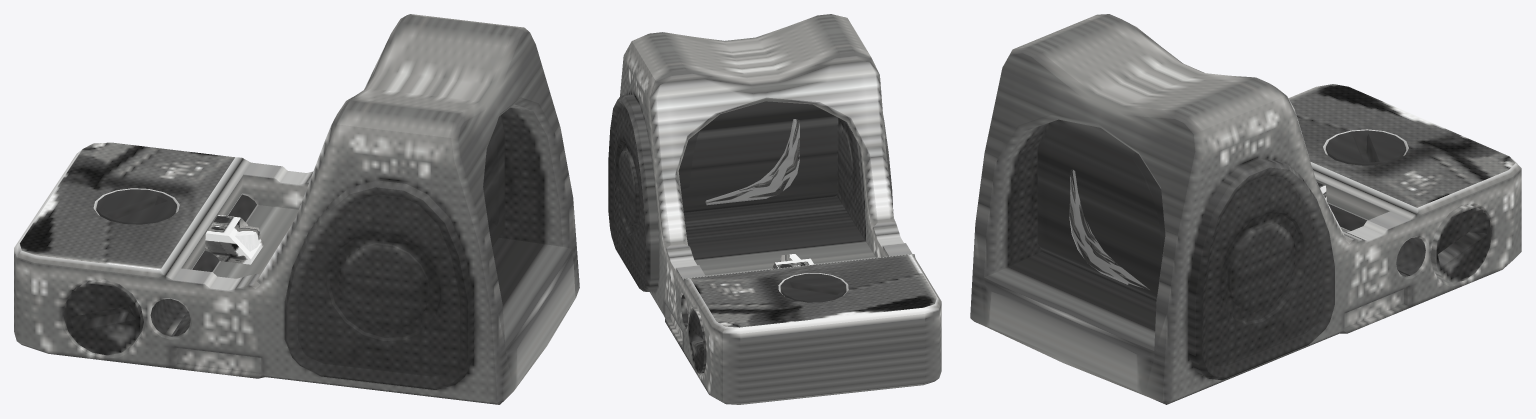
Rendered from Att-trijicon-red-dot.glb.
The picture shows the model from 3 angles, left to right: view 1: azimuth 30°, elevation 25°; view 2: azimuth 150°, elevation 25°; view 3: azimuth 270°, elevation 25°; orthographic projection. The views are drawn at different scales.
Parts seen in each view (by area): view 1: inspect-side; view 2: inspect-side; view 3: inspect-side.
Boxes of the visible parts, <box> form: inspect-side: <box>14,14,579,404</box>; inspect-side: <box>608,14,941,404</box>; inspect-side: <box>970,14,1521,404</box>.
Size of the model in its own units: 1.2 by 0.6411 by 1.2.
Materials: 5 (5 with a texture image).
